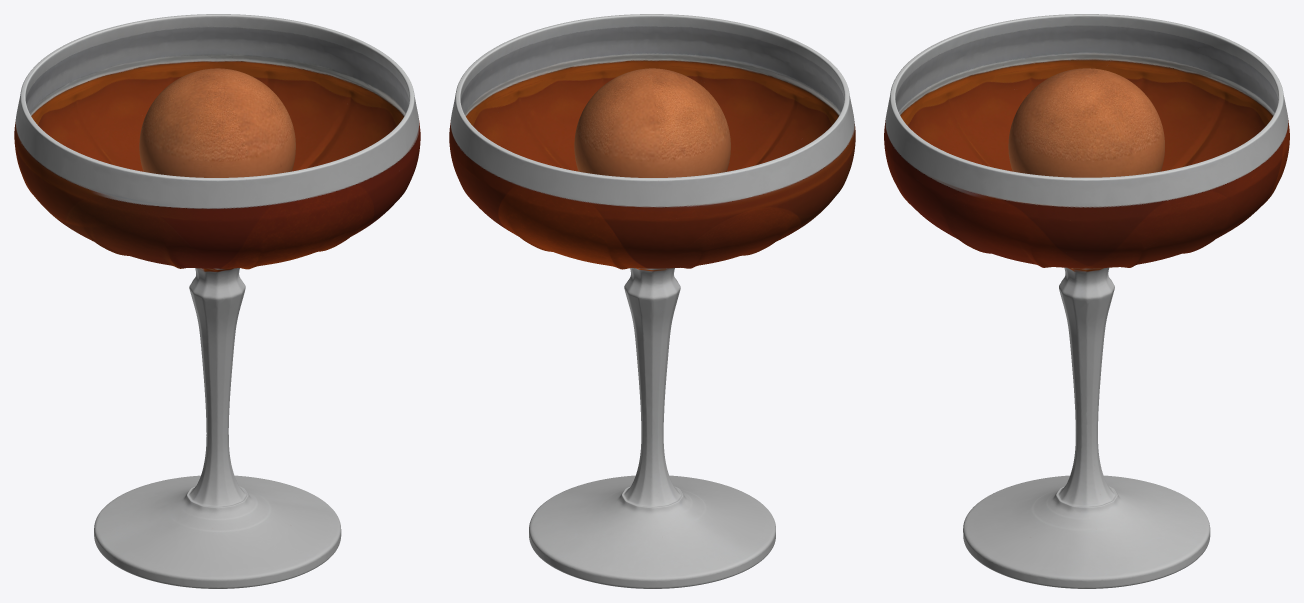
Rendered from coupe_glass.glb.
The picture shows the model from 3 angles, left to right: view 1: azimuth 30°, elevation 25°; view 2: azimuth 150°, elevation 25°; view 3: azimuth 270°, elevation 25°; orthographic projection.
Size of the model in its own units: 1.51 by 1.9 by 1.51.
Materials: 1 (1 with a texture image).
